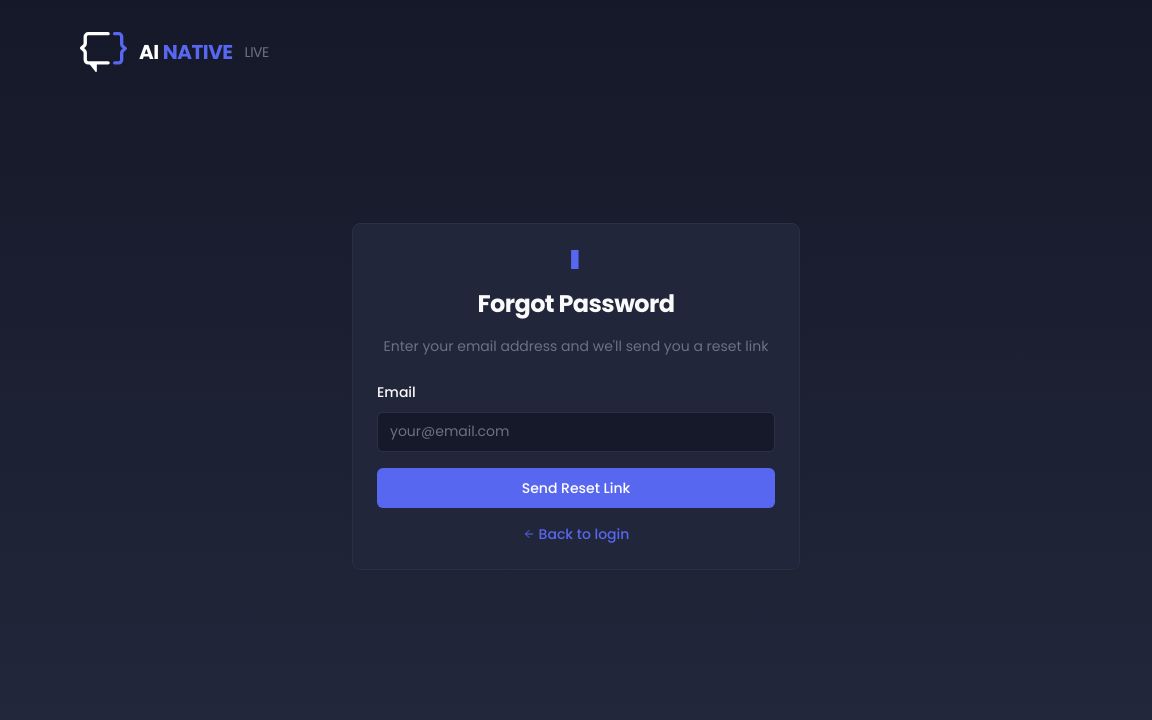
Test: ForgotPasswordPage › API Integration › should display success message when email sent
Type "user@example.com" into the field labelled "Email". click: coordinates (576, 432)
box: [377, 412, 775, 452]
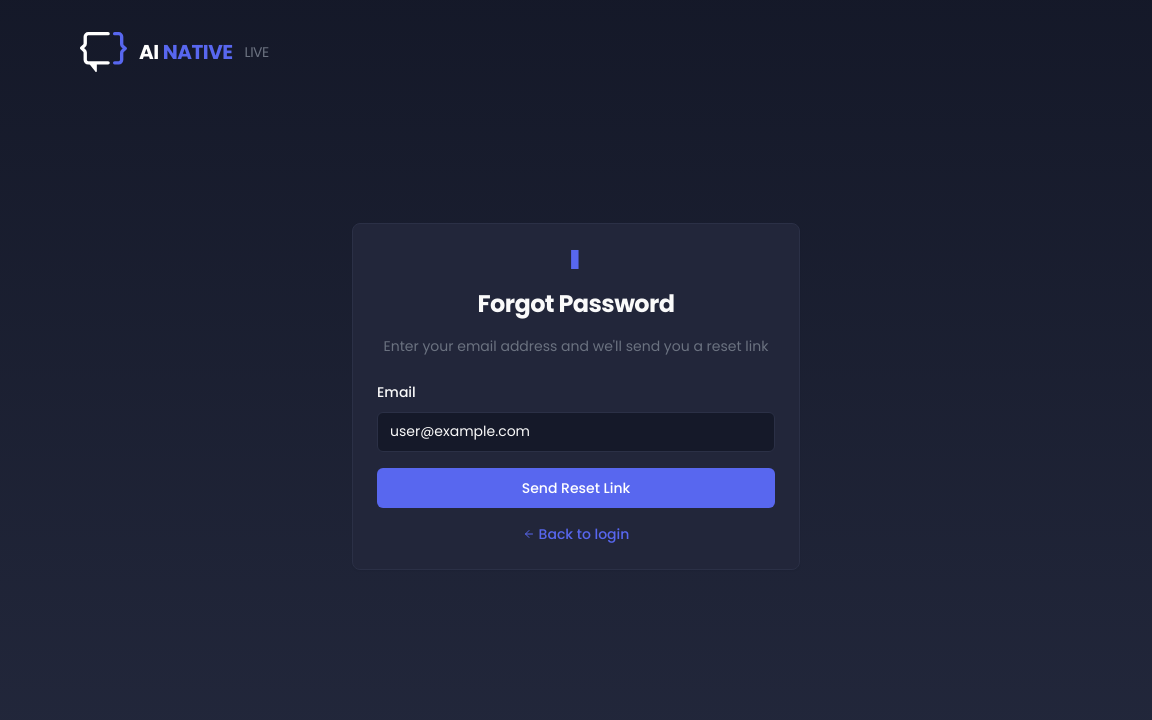
Click the button "Send Reset Link". click: coordinates (576, 488)
box: [377, 468, 775, 508]
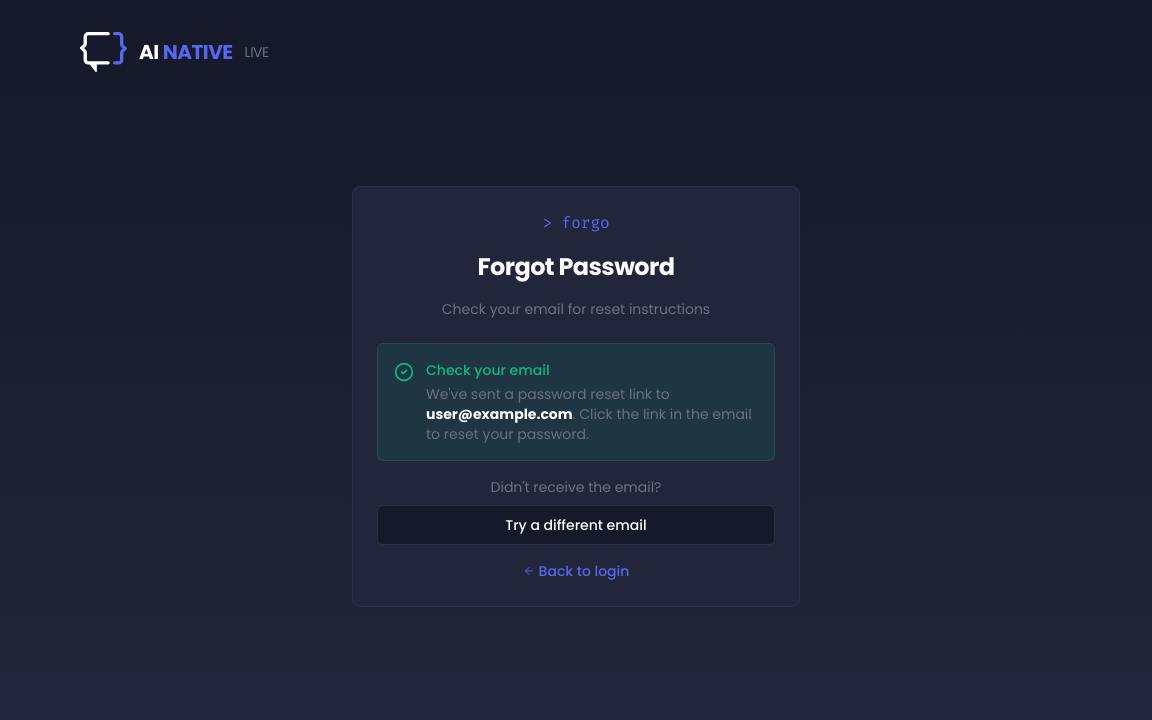
Expected: the text "We've sent a password reset link" is shown, [426, 384, 670, 404]
